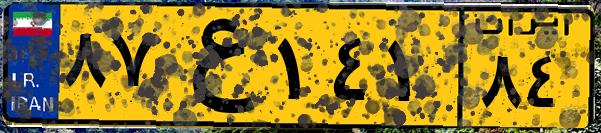1: (270, 28, 330, 110), (385, 28, 445, 110)
4: (330, 28, 385, 110), (525, 38, 570, 115)
7: (110, 28, 158, 98)
8: (57, 26, 110, 100), (475, 38, 525, 113)
ع: (158, 12, 270, 120)
